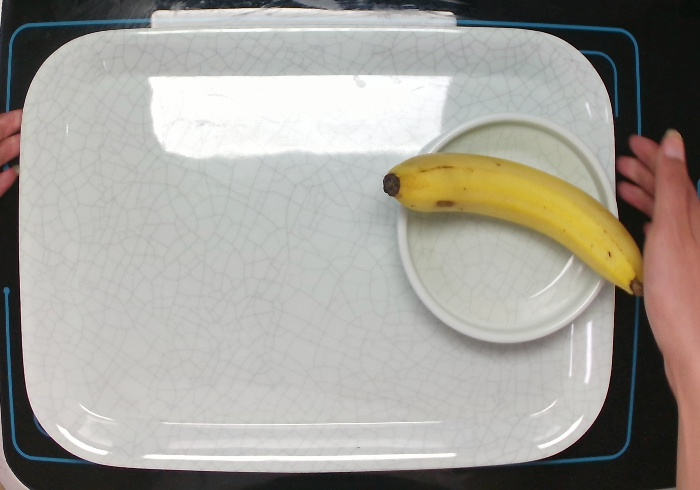JYsf-Xiao_Yuan_Pan: (392, 107, 625, 348)
